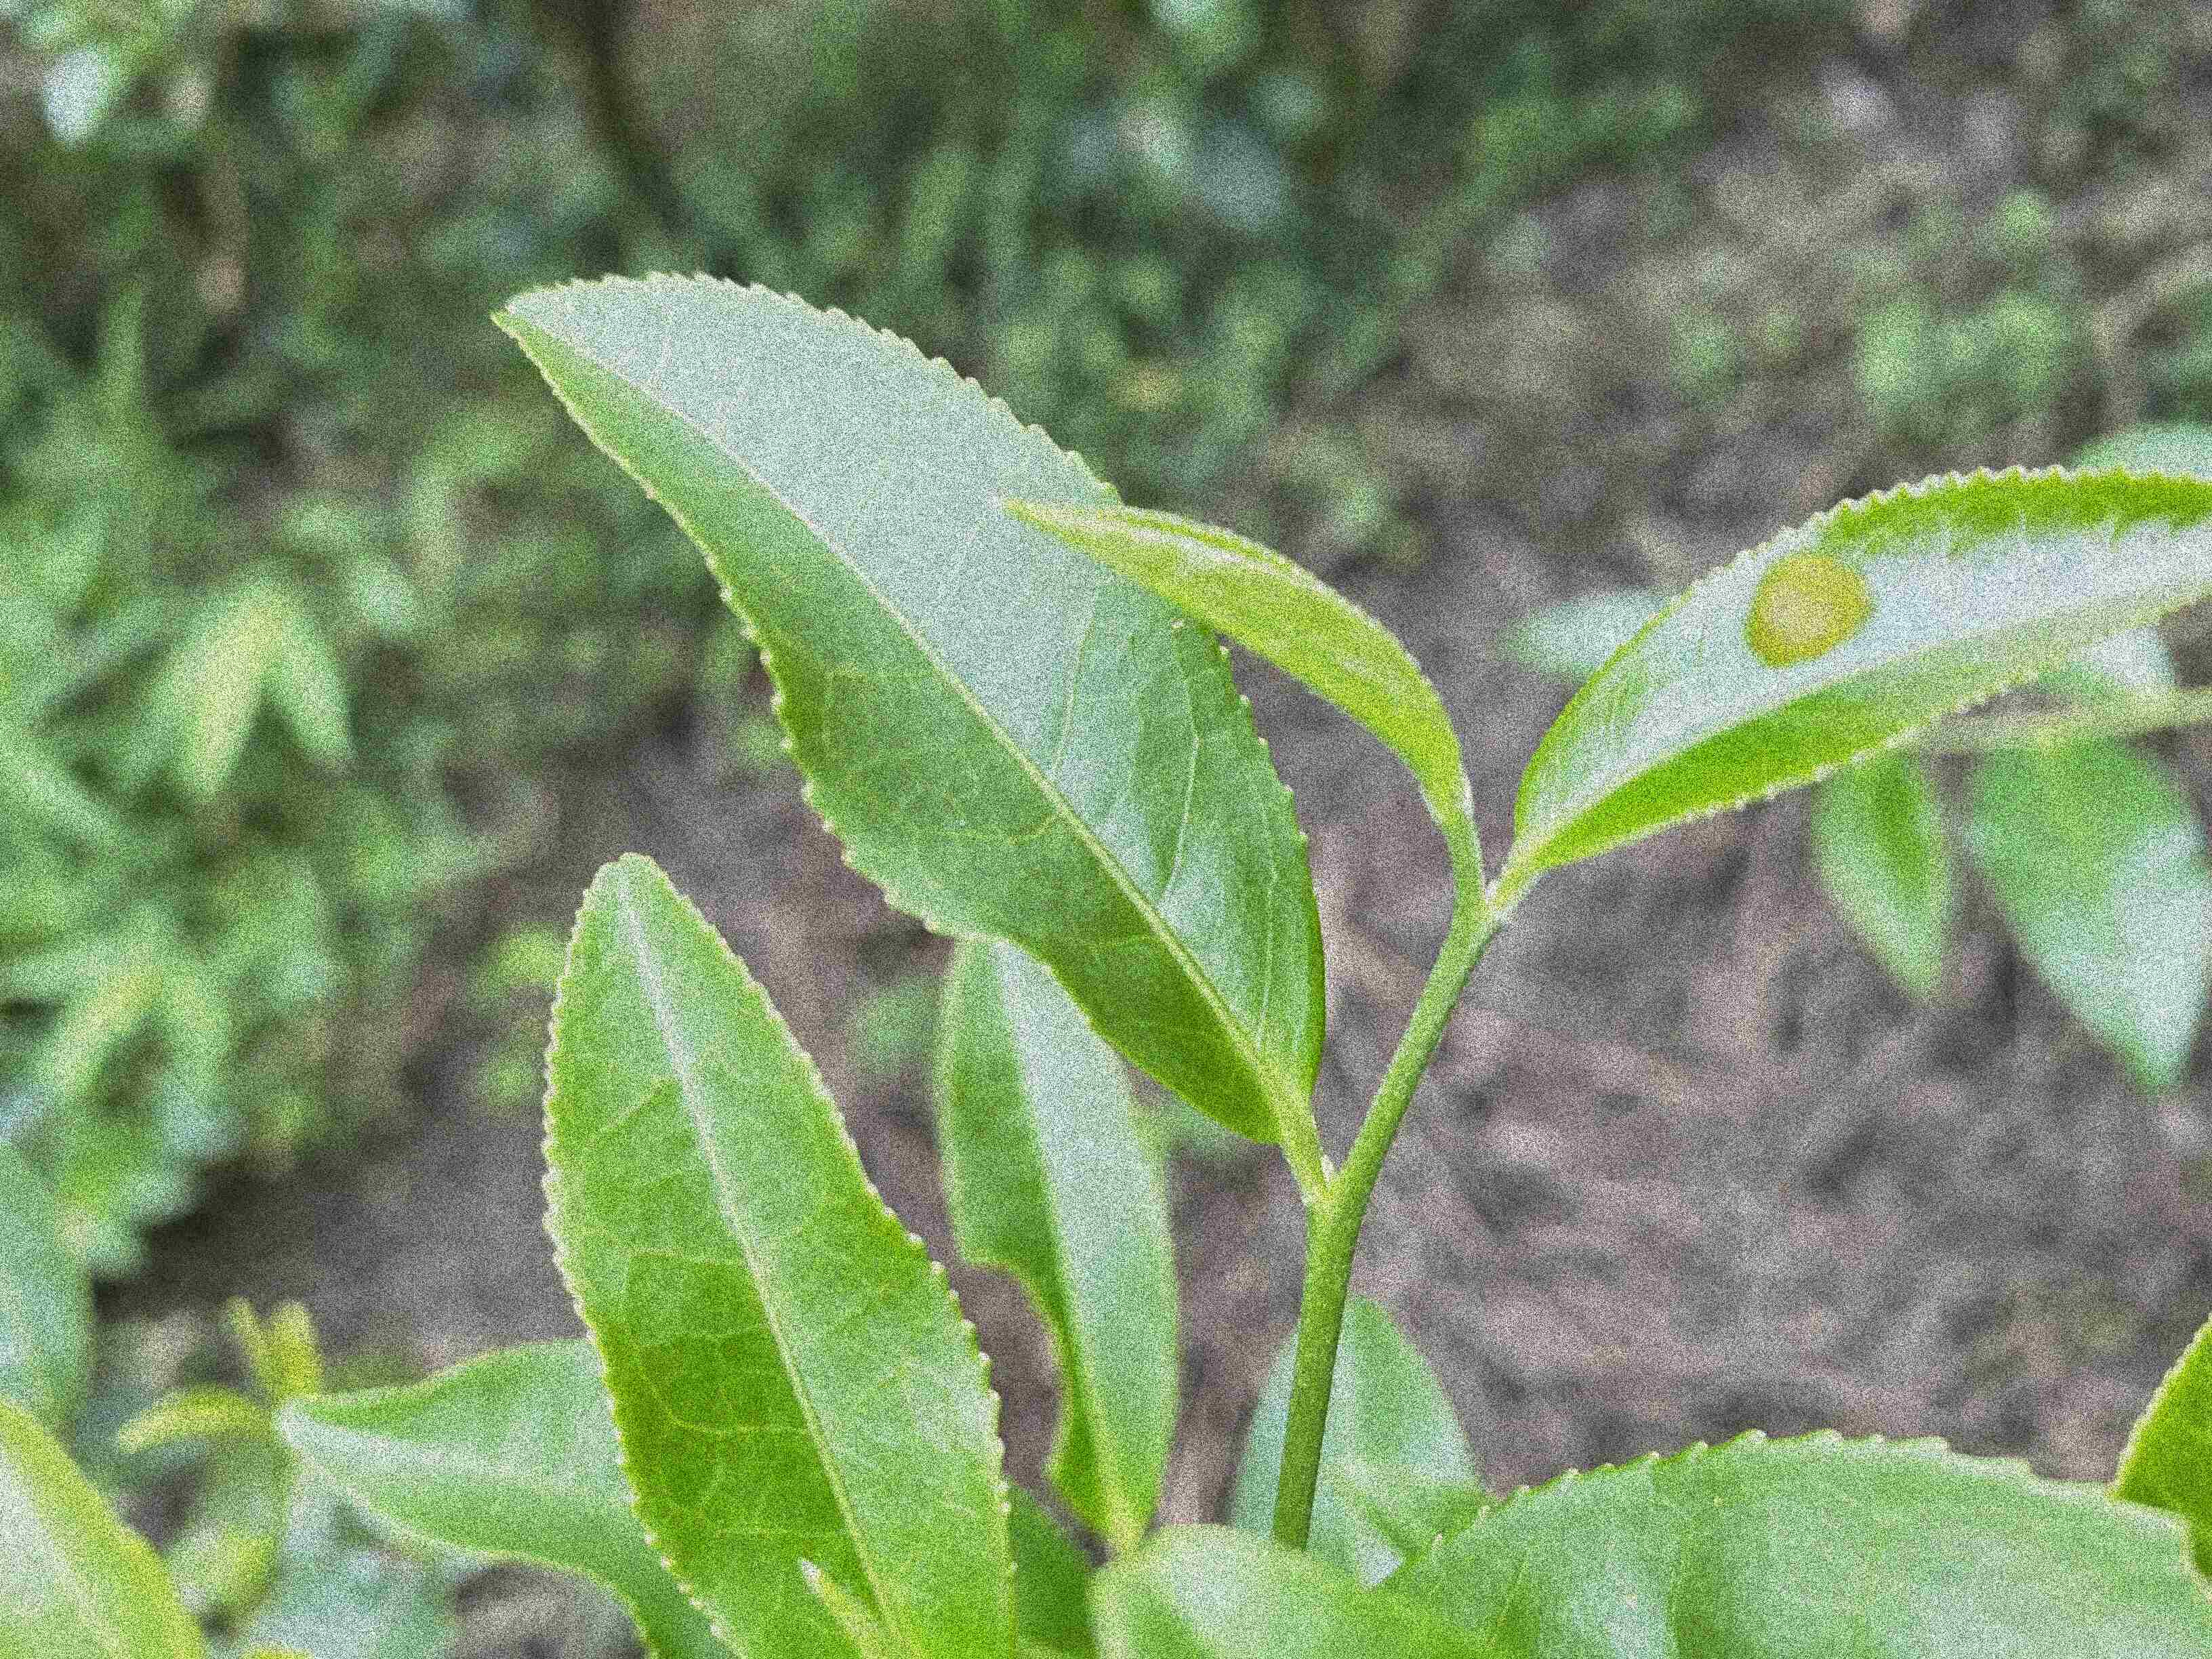chabing_low: (1512, 465, 2212, 871)
healthy: (486, 265, 1329, 1147), (535, 847, 1022, 1656)
